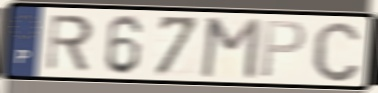6: (103, 12, 145, 78)
7: (156, 14, 203, 79)
C: (310, 18, 364, 84)
M: (197, 16, 263, 81)
P: (259, 19, 309, 81)
R: (44, 13, 96, 73)
